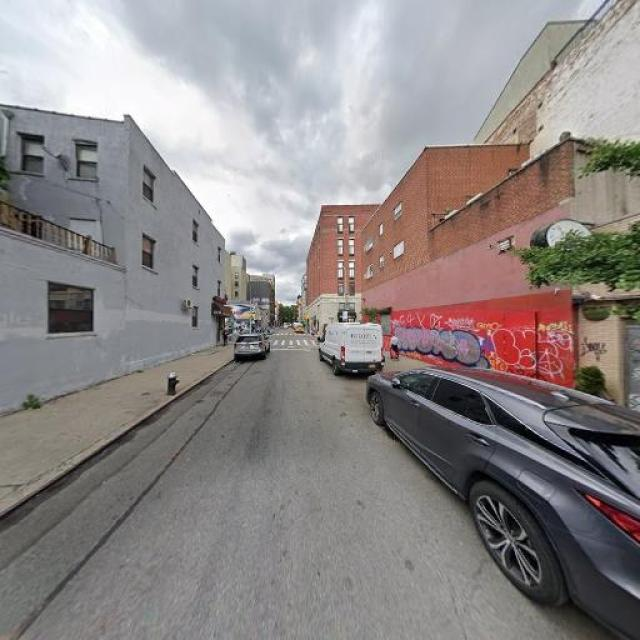Building: (1, 115, 225, 404), (363, 135, 573, 407), (575, 200, 640, 427)
